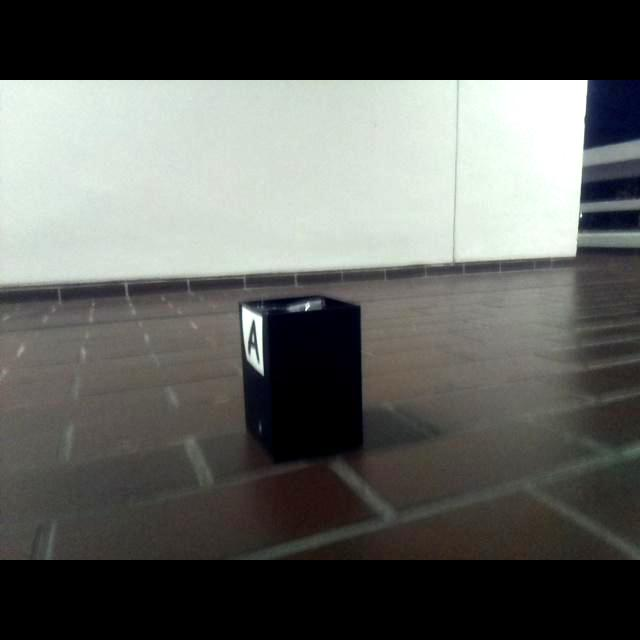A: (248, 320, 260, 362)
